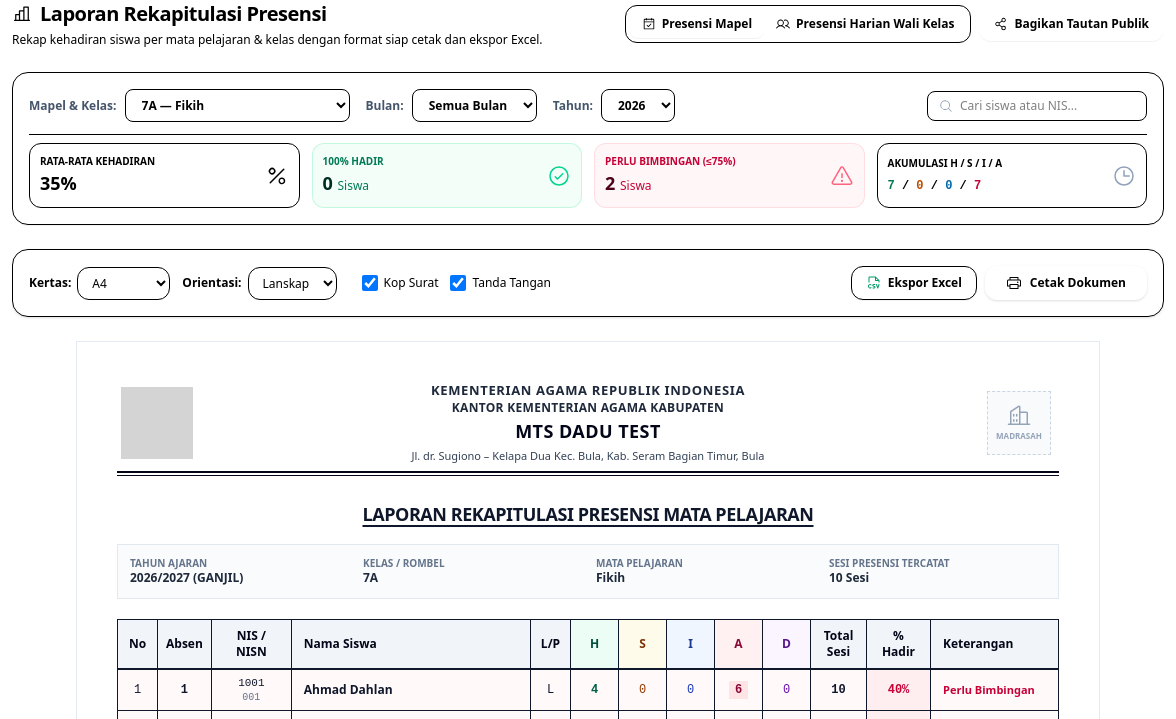
Test: AttendanceReportPage Denominator Semantics & Correctness › 6. Monthly filter uses only recorded attendance dates in the selected month and year
Check: the text "Ahmad Dahlan" is shown, box [291,670,530,711]
Select "Oktober" in the dropdown next to "Bulan:" at (474, 106), box [412,89,537,122]
(page scrolled)
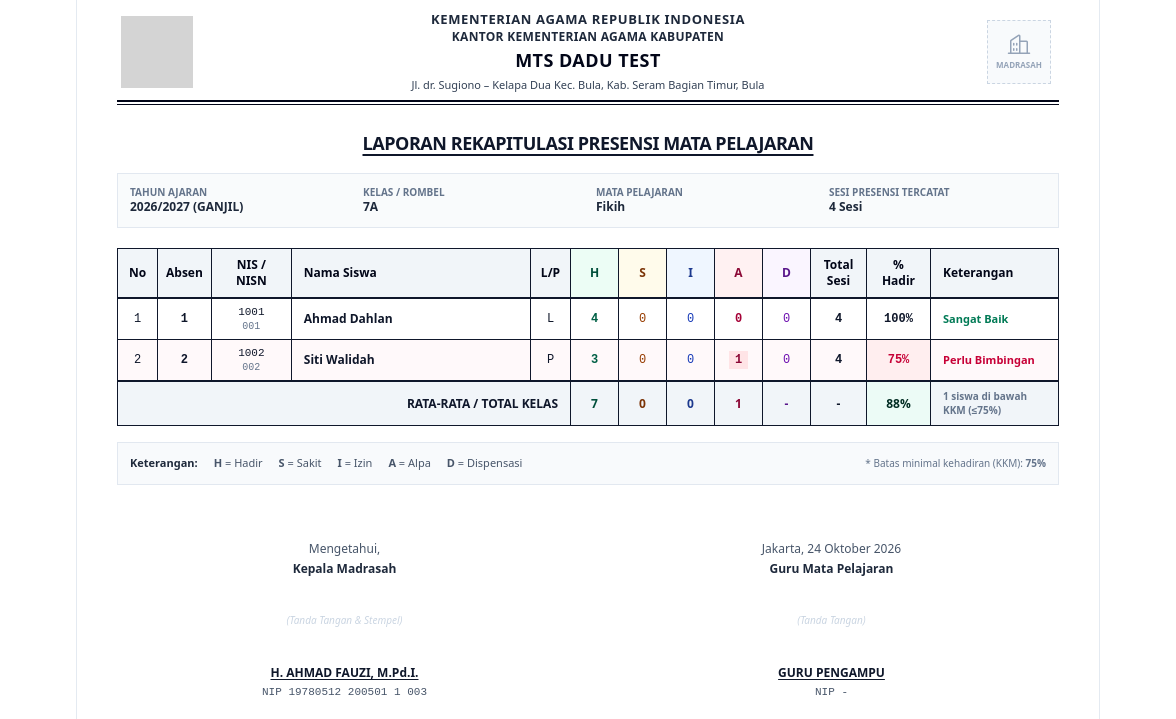
Check: the text "Ahmad Dahlan" shows "100%", box [118,298,1058,340]
Check: the text "Siti Walidah" shows "4", box [835,353,842,367]
Check: the text "Siti Walidah" shows "75%", box [118,340,1058,381]
